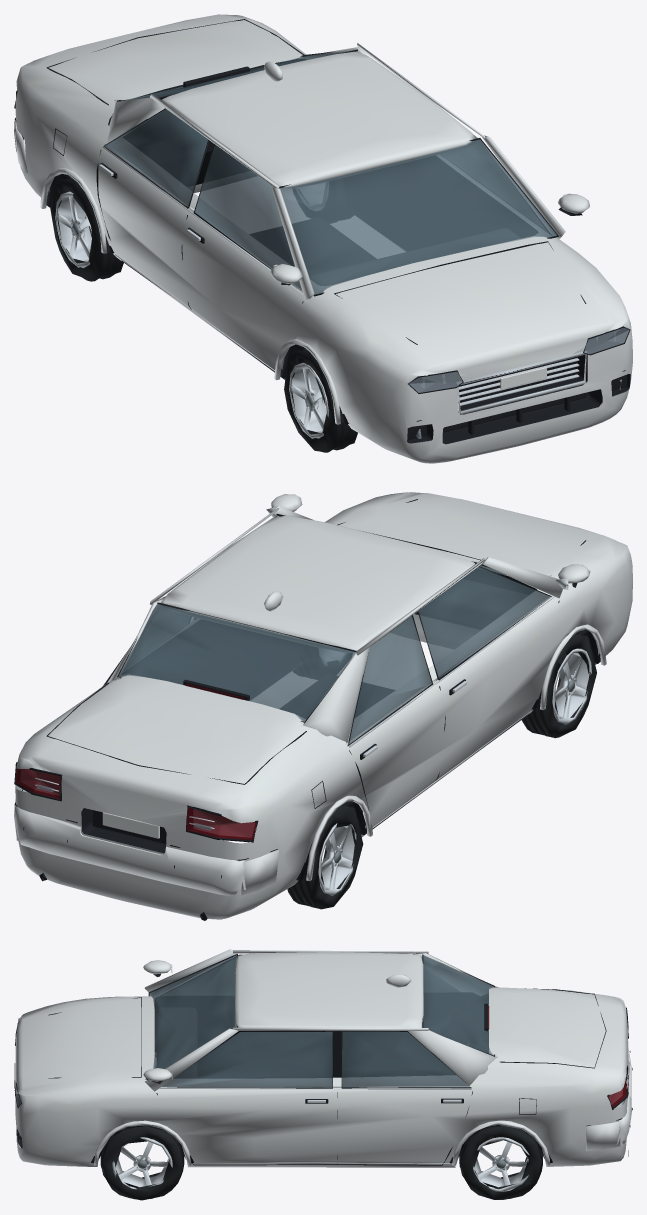
Rendered from car-sedan2-lo.glb.
The picture shows the model from 3 angles, top to bottom: view 1: azimuth 30°, elevation 25°; view 2: azimuth 150°, elevation 25°; view 3: azimuth 270°, elevation 25°; orthographic projection. The views are drawn at different scales.
Parts seen in each view (by area): view 1: Aerodynamic mirror painted cap, Front side door glass, Aerodynamic mirror lower housing, Beltline satin bead, Instrument panel, 107 reused Sculpted_tyre.003, 107 reused Sculpted_tyre.001, 107 reused Alloy_five_spoke_rim.001, 107 reused Alloy_five_spoke_rim.003, Clear reversing lens insert, 107 reused Sculpted_tyre.002; view 2: Aerodynamic mirror painted cap, Front side door glass, Aerodynamic mirror lower housing, Instrument panel, 107 reused Sculpted_tyre.003, Flush corner wrapping ruby lamp lens, 107 reused Sculpted_tyre.001, Beltline satin bead, 107 reused Alloy_five_spoke_rim.001, 107 reused Alloy_five_spoke_rim.003, 107 reused Sculpted_tyre, Front license plate; view 3: Aerodynamic mirror painted cap, Front side door glass, Aerodynamic mirror lower housing, 107 reused Sculpted_tyre, 107 reused Sculpted_tyre.002, Instrument panel, 107 reused Alloy_five_spoke_rim.002, 107 reused Alloy_five_spoke_rim, Beltline satin bead.
Boxes of the visible parts, bbox=[...] form: Aerodynamic mirror painted cap: bbox=[14, 14, 632, 463]; Front side door glass: bbox=[105, 51, 556, 294]; Aerodynamic mirror lower housing: bbox=[14, 19, 630, 444]; Beltline satin bead: bbox=[99, 147, 586, 414]; Instrument panel: bbox=[309, 229, 520, 285]; 107 reused Sculpted_tyre.003: bbox=[50, 176, 123, 281]; 107 reused Sculpted_tyre.001: bbox=[284, 348, 357, 452]; 107 reused Alloy_five_spoke_rim.001: bbox=[289, 362, 328, 438]; 107 reused Alloy_five_spoke_rim.003: bbox=[55, 191, 91, 268]; Clear reversing lens insert: bbox=[409, 327, 629, 438]; 107 reused Sculpted_tyre.002: bbox=[293, 178, 353, 223]; Aerodynamic mirror painted cap: bbox=[14, 492, 632, 919]; Front side door glass: bbox=[106, 564, 551, 743]; Aerodynamic mirror lower housing: bbox=[15, 499, 600, 920]; Instrument panel: bbox=[415, 579, 527, 629]; 107 reused Sculpted_tyre.003: bbox=[287, 803, 363, 909]; Flush corner wrapping ruby lamp lens: bbox=[15, 683, 256, 840]; 107 reused Sculpted_tyre.001: bbox=[521, 632, 596, 738]; Beltline satin bead: bbox=[20, 507, 568, 836]; 107 reused Alloy_five_spoke_rim.001: bbox=[552, 648, 591, 724]; 107 reused Alloy_five_spoke_rim.003: bbox=[318, 823, 356, 895]; 107 reused Sculpted_tyre: bbox=[293, 645, 352, 679]; Front license plate: bbox=[102, 812, 159, 838]; Aerodynamic mirror painted cap: bbox=[15, 949, 631, 1167]; Front side door glass: bbox=[149, 955, 493, 1087]; Aerodynamic mirror lower housing: bbox=[15, 954, 632, 1166]; 107 reused Sculpted_tyre: bbox=[100, 1125, 184, 1200]; 107 reused Sculpted_tyre.002: bbox=[459, 1125, 542, 1199]; Instrument panel: bbox=[157, 1008, 196, 1077]; 107 reused Alloy_five_spoke_rim.002: bbox=[473, 1137, 529, 1191]; 107 reused Alloy_five_spoke_rim: bbox=[112, 1137, 172, 1189]; Beltline satin bead: bbox=[16, 965, 628, 1103].
Bounding box in the file's own units: 2.17 × 1.54 × 4.84.
10 materials, 10 textured.
